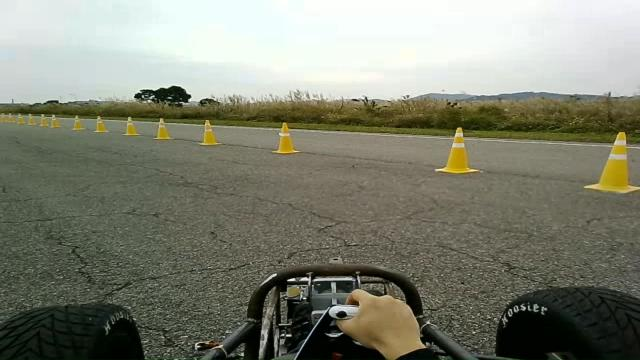yellow cone: (583, 131, 639, 193), (434, 127, 482, 174), (271, 122, 301, 154), (198, 120, 222, 146), (152, 118, 174, 140), (121, 115, 140, 136), (93, 115, 109, 132), (71, 115, 85, 130), (38, 113, 49, 127), (50, 114, 60, 127), (26, 113, 36, 125), (16, 113, 25, 124), (7, 112, 15, 122), (0, 113, 7, 122)
